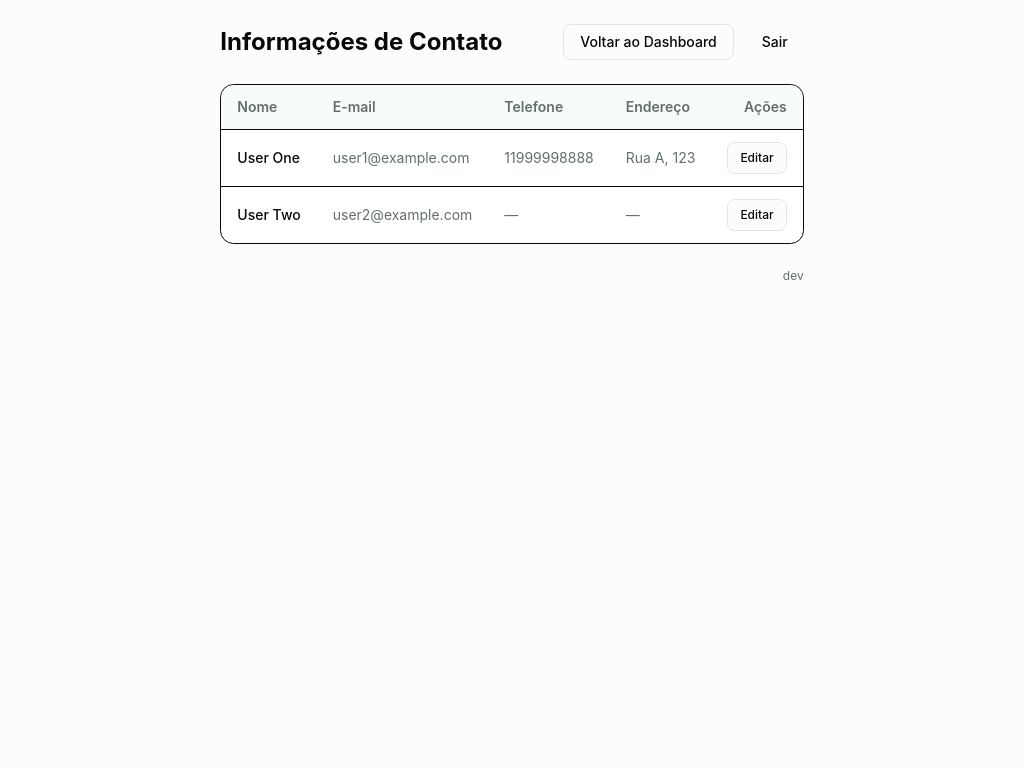
Test: ContactInfoDashboard › closes the edit modal when backdrop is clicked
Check: the text "User One" is shown, box [221,130,317,186]
Click the button "Editar" in the row of "User One". click: (757, 158)
box: [727,142,787,174]
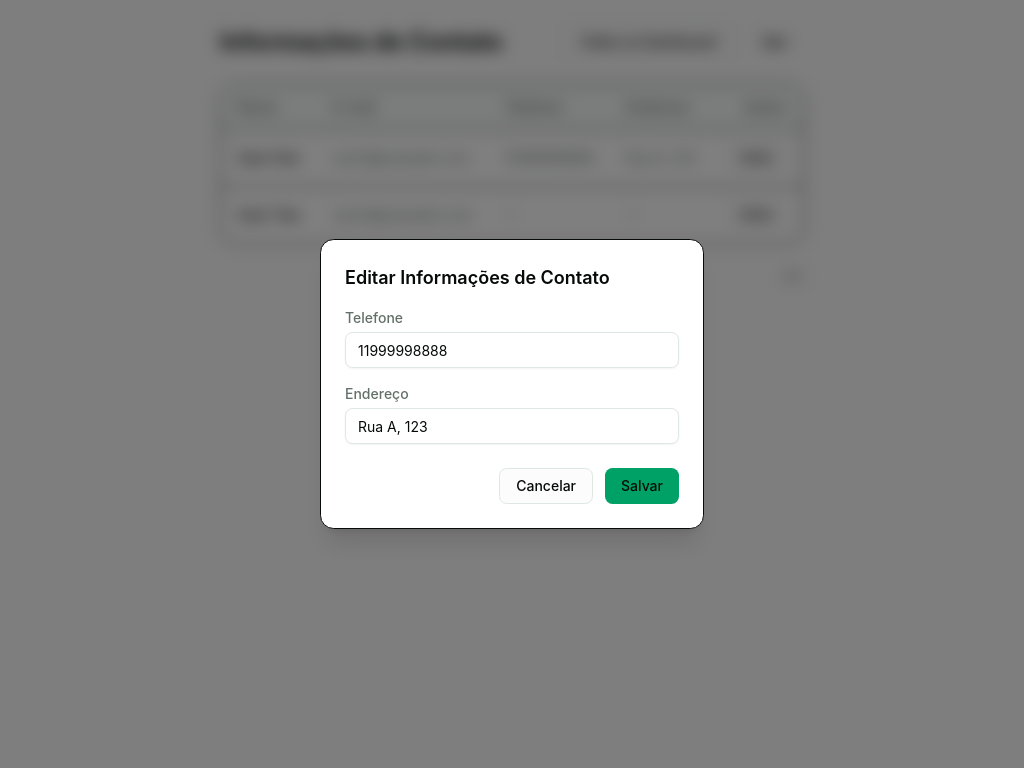
Check: the heading "Editar Informações de Contato" is shown, box [345,267,610,288]
Click the element with class "z-50". click: (61, 384)
box: [0,0,1023,767]
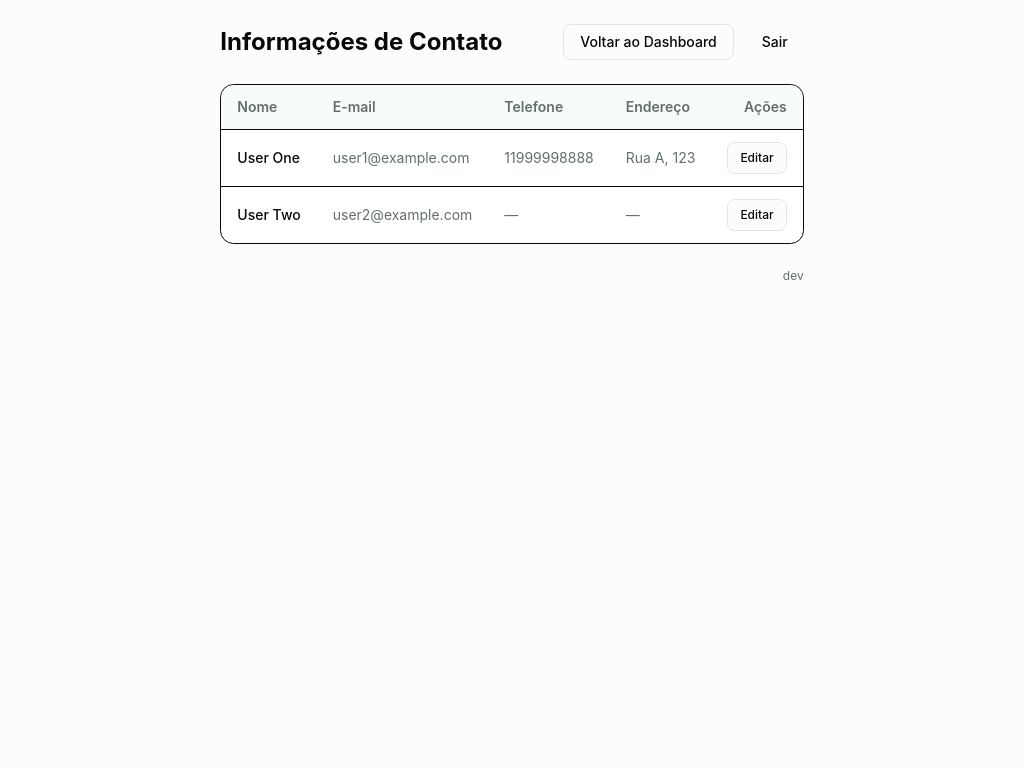
Check: the heading "Editar Informações de Contato" is gone
